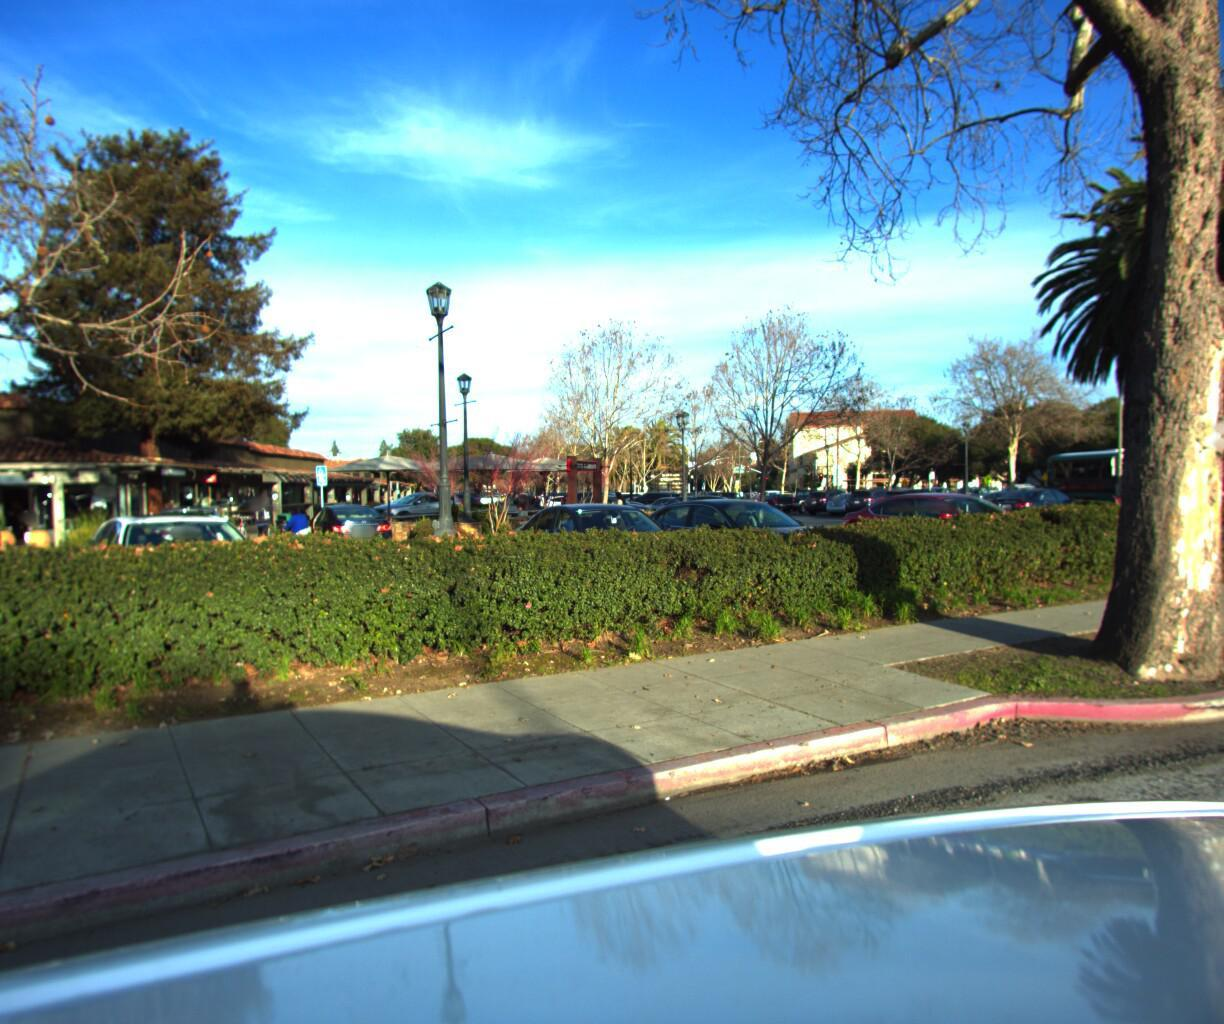bicycle: (1175, 468, 1224, 541), (1185, 459, 1224, 545)
bus: (1042, 429, 1224, 527)
car: (84, 506, 303, 674), (614, 492, 864, 597), (501, 496, 729, 608), (829, 484, 1083, 580), (983, 481, 1096, 523), (0, 507, 17, 712), (844, 482, 918, 517), (801, 483, 872, 514), (823, 487, 896, 517), (774, 484, 838, 510)
